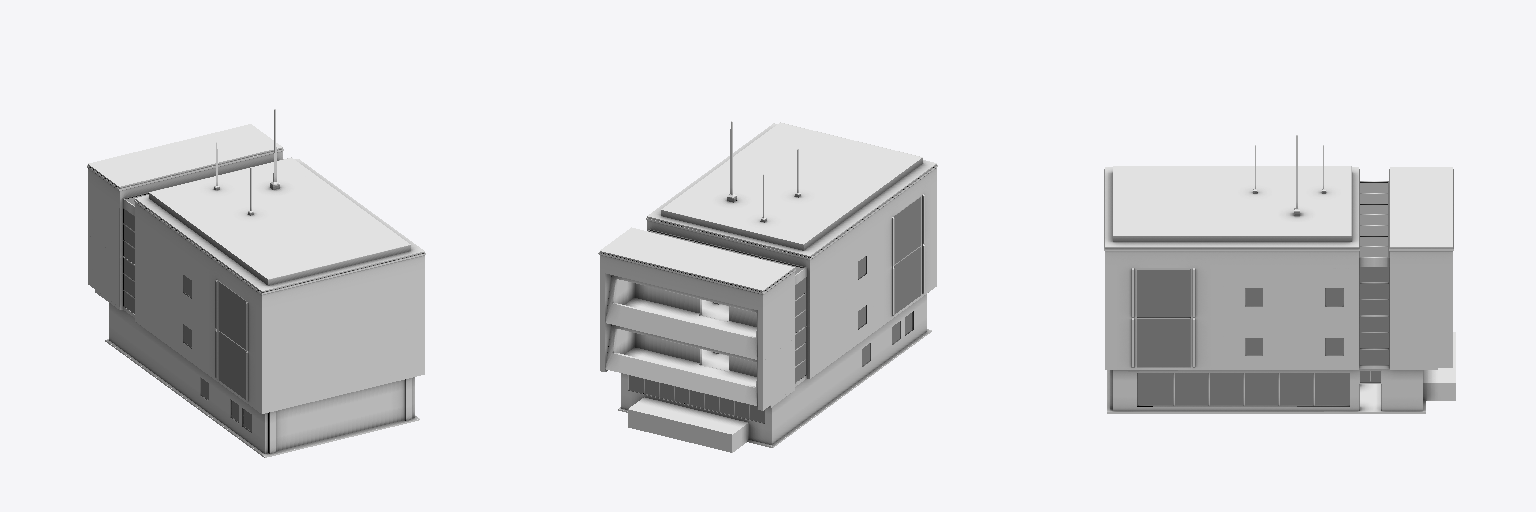
3 renders of one model, left to right at view 1: azimuth 30°, elevation 25°; view 2: azimuth 150°, elevation 25°; view 3: azimuth 270°, elevation 25°, orthographic.
Parts seen in each view (by area): view 1: Residential_Buildings_001_Cube.001; view 2: Residential_Buildings_001_Cube.001; view 3: Residential_Buildings_001_Cube.001.
Part boxes in pixels (bbox=[...]): Residential_Buildings_001_Cube.001: bbox=[87, 109, 425, 457]; Residential_Buildings_001_Cube.001: bbox=[598, 121, 937, 452]; Residential_Buildings_001_Cube.001: bbox=[1104, 135, 1455, 413].
Size of the model in its own units: 12.59 by 19.38 by 23.1.
Materials: 3 (1 with a texture image).